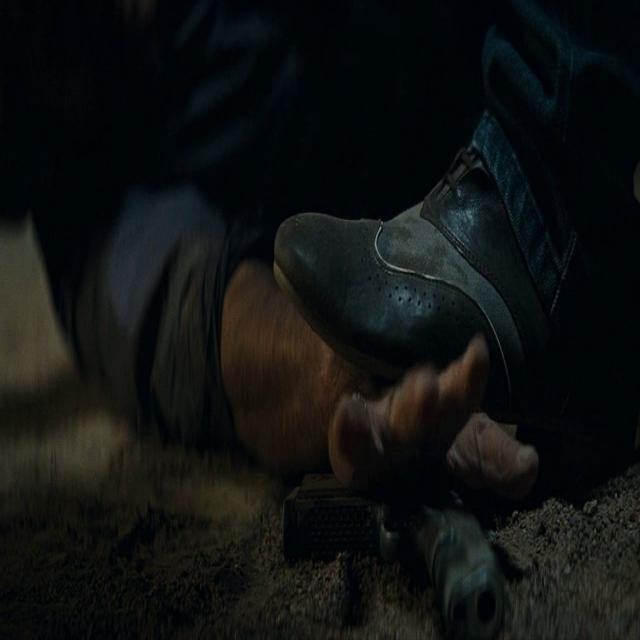gun-knife-thesis - v11 Yolov5 augmented: (277, 453, 505, 639)
